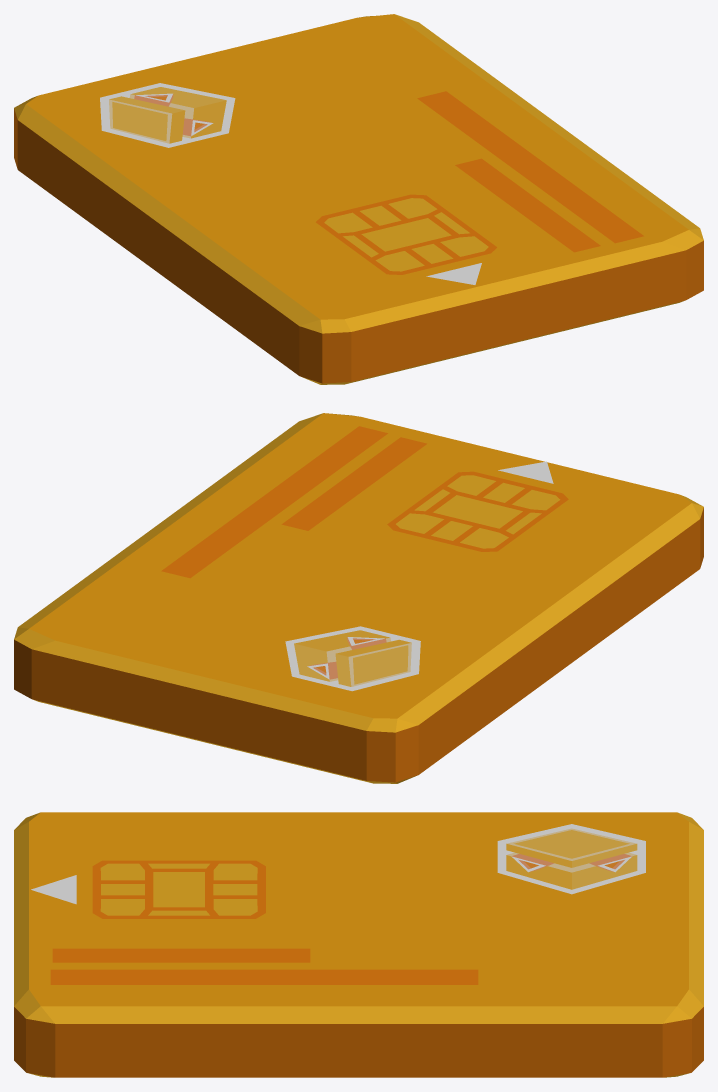
File: Prop_Debitcard.fbx
The picture shows the model from 3 angles, top to bottom: view 1: azimuth 30°, elevation 25°; view 2: azimuth 150°, elevation 25°; view 3: azimuth 270°, elevation 25°; orthographic projection. The views are drawn at different scales.
Visible parts, largest first — view 1: MODEL_Debitcard; view 2: MODEL_Debitcard; view 3: MODEL_Debitcard.
Boxes of the visible parts, x1,y1,x2,y2 form: MODEL_Debitcard: (14, 14, 703, 384); MODEL_Debitcard: (14, 413, 703, 783); MODEL_Debitcard: (14, 812, 703, 1077).
Size of the model in its own units: 249 by 40.12 by 344.
